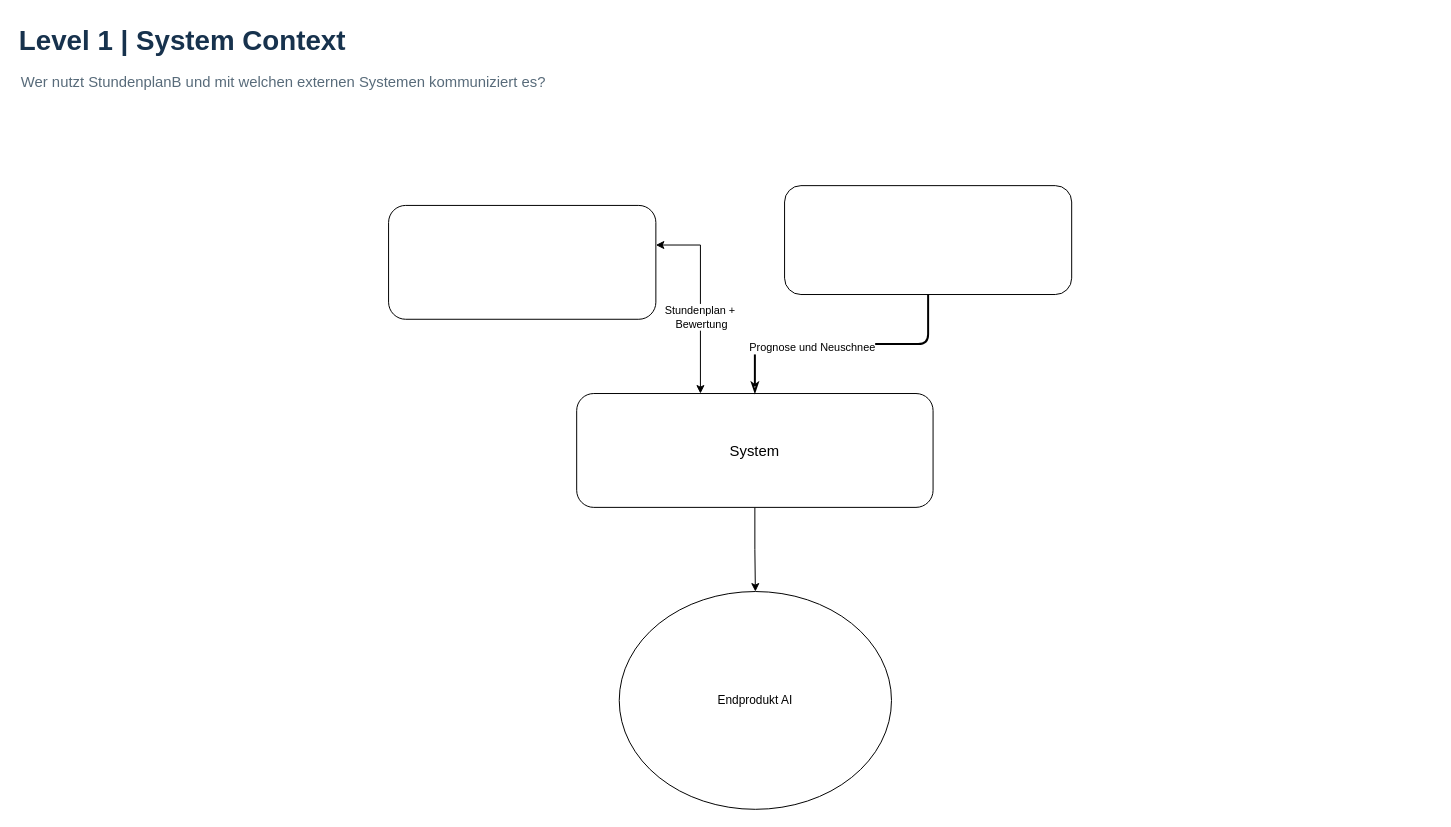
Image size: 1451x827. Some labels were removed from this diagram. The centre of each missing label's shape, as x and y in pixels:
Stundent: point 522,261
Weather API: point 928,240
